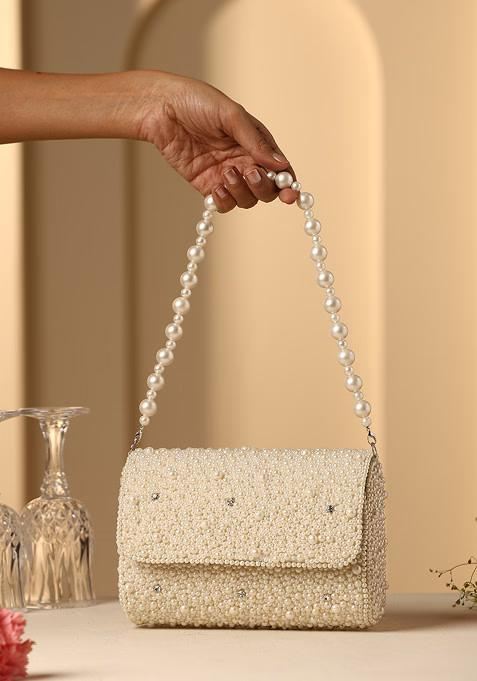handbag: (113, 170, 384, 624)
